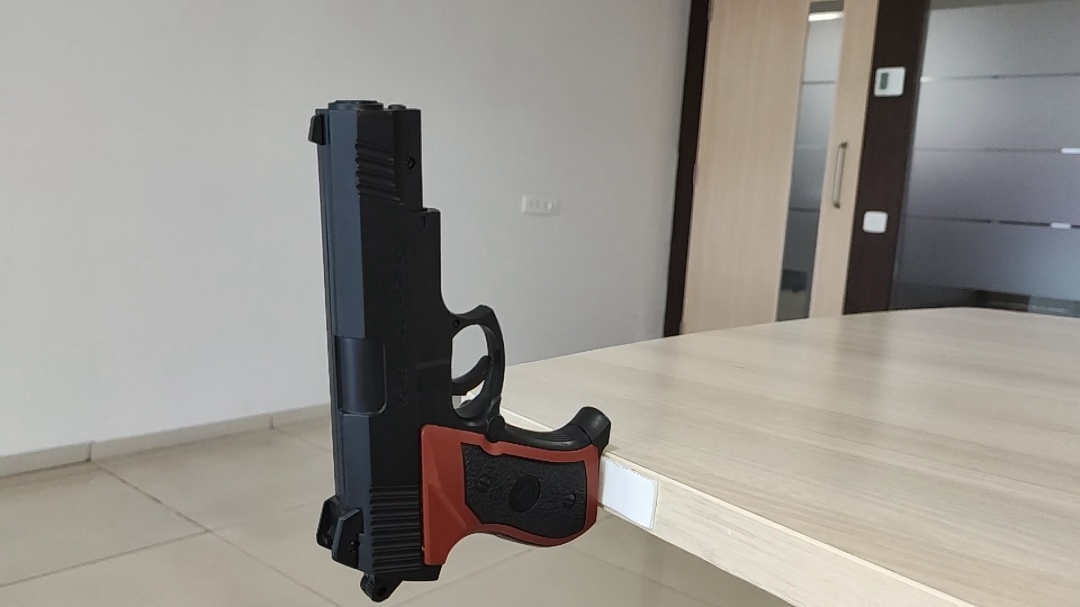gun: (319, 220, 474, 329)
